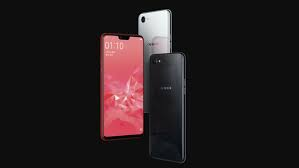oppo: (146, 49, 189, 166)
